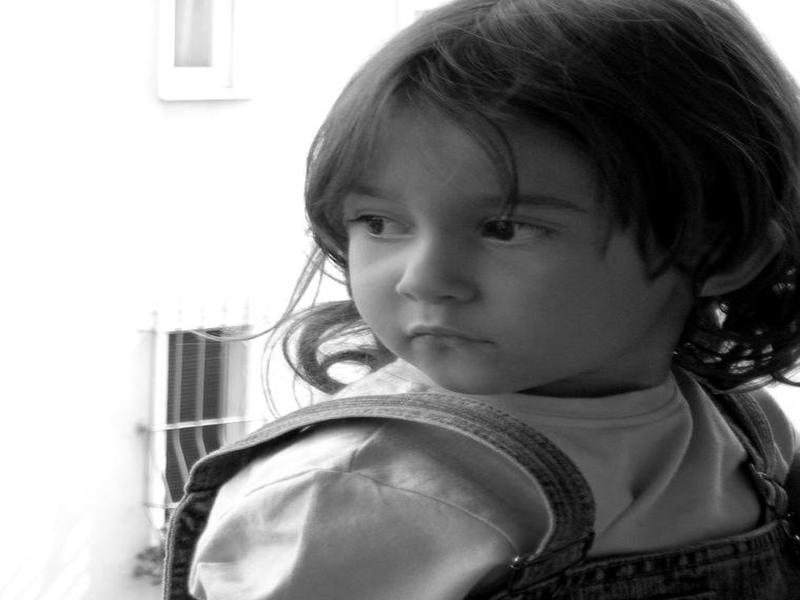person: (162, 1, 796, 600)
